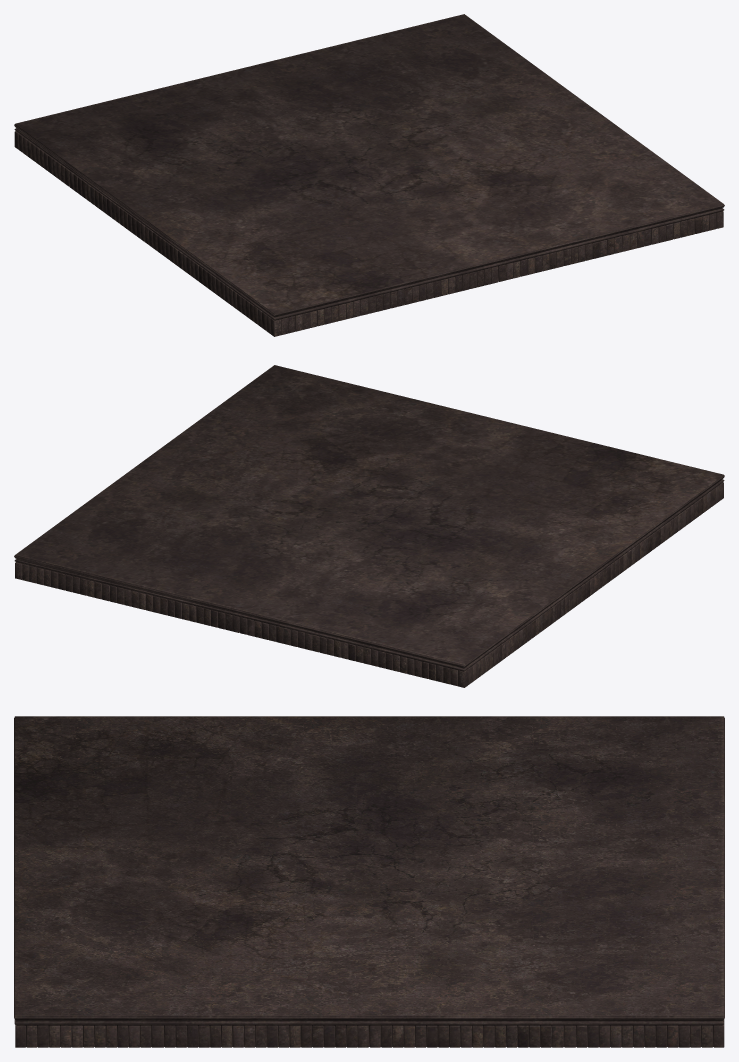
Rendered from SK2 EXT BASE LARGE.fbx.
3 renders of one model, top to bottom at view 1: azimuth 30°, elevation 25°; view 2: azimuth 150°, elevation 25°; view 3: azimuth 270°, elevation 25°, orthographic. The views are drawn at different scales.
Visible parts, largest first — view 1: SK2 EXT BASE LARGE; view 2: SK2 EXT BASE LARGE; view 3: SK2 EXT BASE LARGE.
Boxes of the visible parts, x1,y1,x2,y2 form: SK2 EXT BASE LARGE: (14, 14, 724, 336); SK2 EXT BASE LARGE: (14, 365, 724, 687); SK2 EXT BASE LARGE: (14, 716, 724, 1047).
Size of the model in its own units: 2055 by 101 by 2056.
